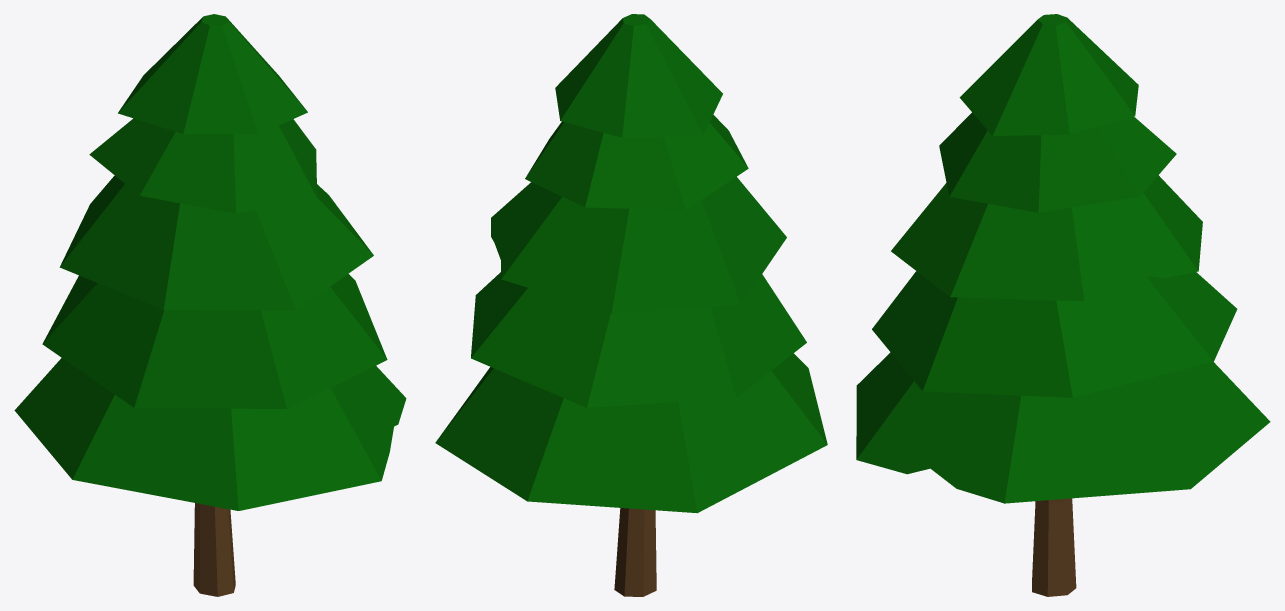
Rendered from Park2_T5.glb.
3 views of the same model, side by side, from view 1: azimuth 30°, elevation 25°; view 2: azimuth 150°, elevation 25°; view 3: azimuth 270°, elevation 25° (orthographic).
Parts seen in each view (by area): view 1: Park2-T5; view 2: Park2-T5; view 3: Park2-T5.
Part boxes in pixels (bbox=[...]): Park2-T5: bbox=[14, 14, 406, 596]; Park2-T5: bbox=[435, 14, 827, 596]; Park2-T5: bbox=[856, 14, 1270, 596].
Bounding box in the file's own units: 26.03 × 42.21 × 27.88.
